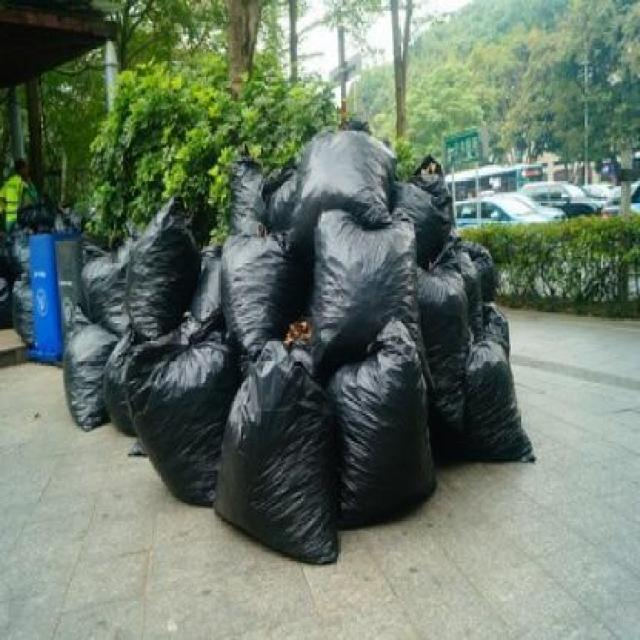garbage: (60, 210, 572, 569), (245, 125, 466, 232), (2, 220, 36, 359)
